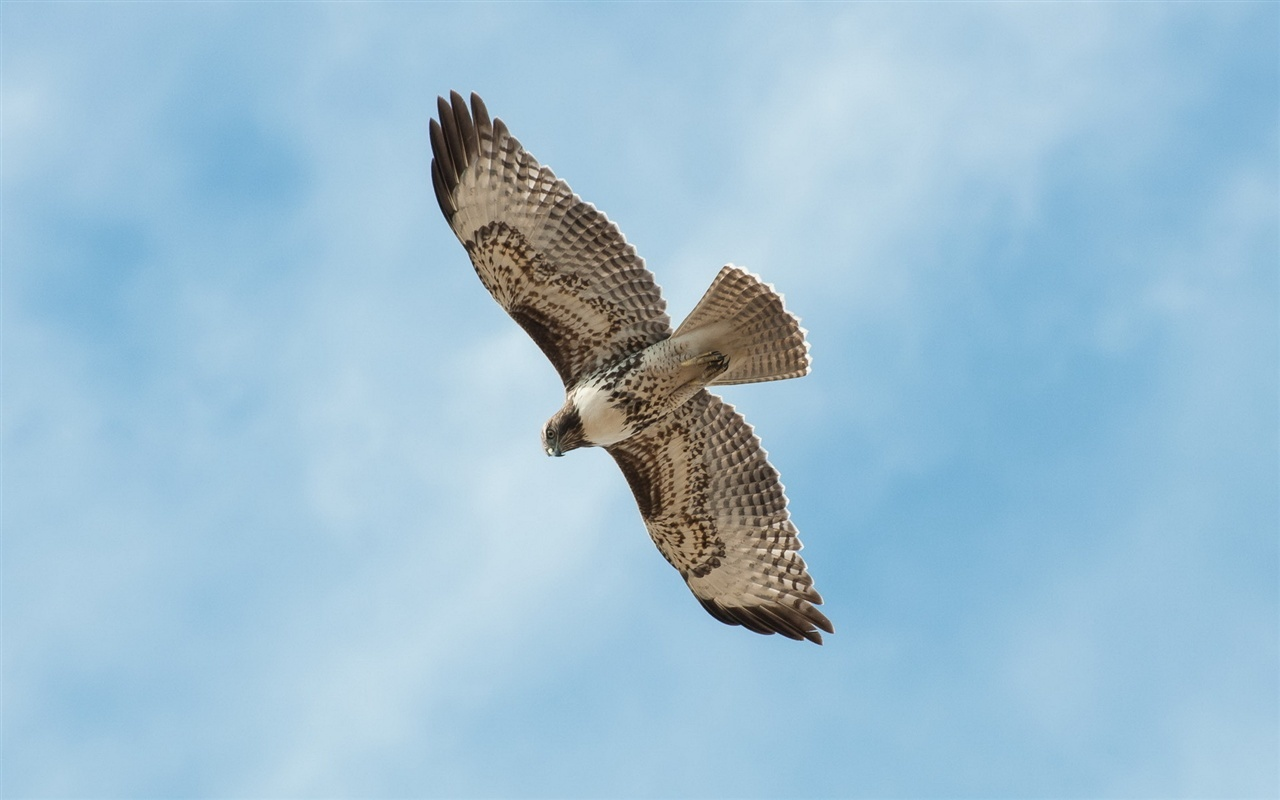bird: (417, 91, 850, 667)
